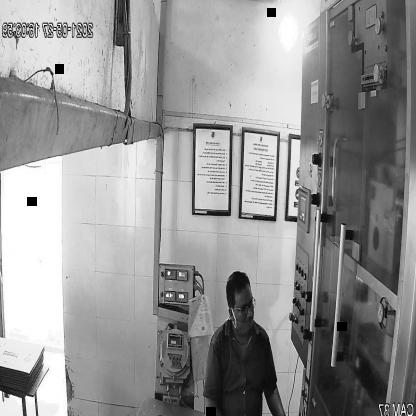goggles: (224, 294, 258, 319)
